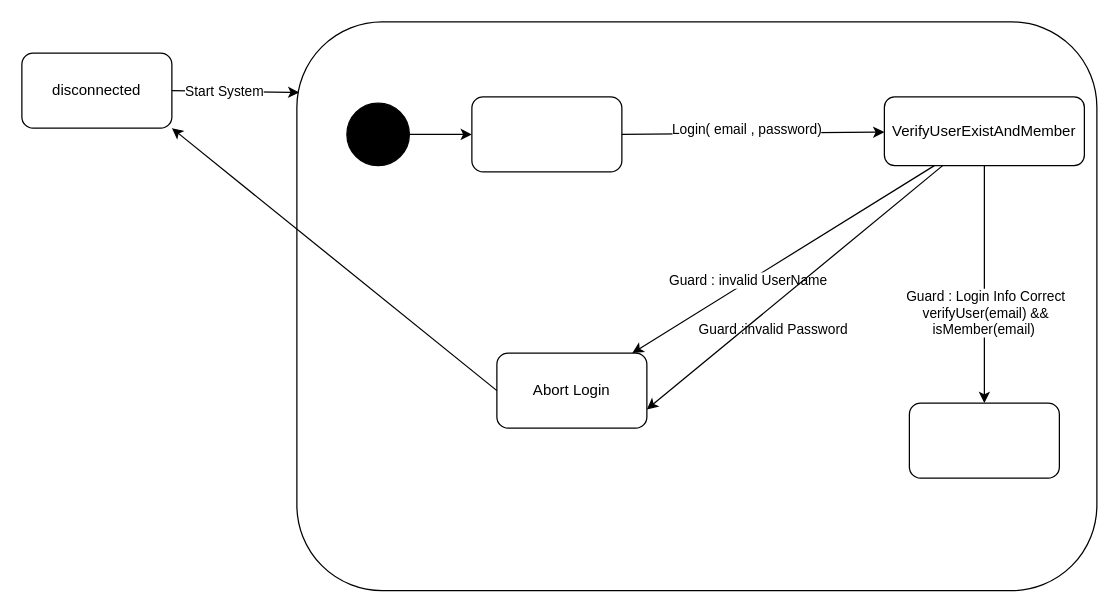
Some shapes in this 1119 by 613 pixel diagram are drawn without their labels. Each missing label, with the centre of its shape:
Authorized: (983,440)
enter login info: (546,134)
